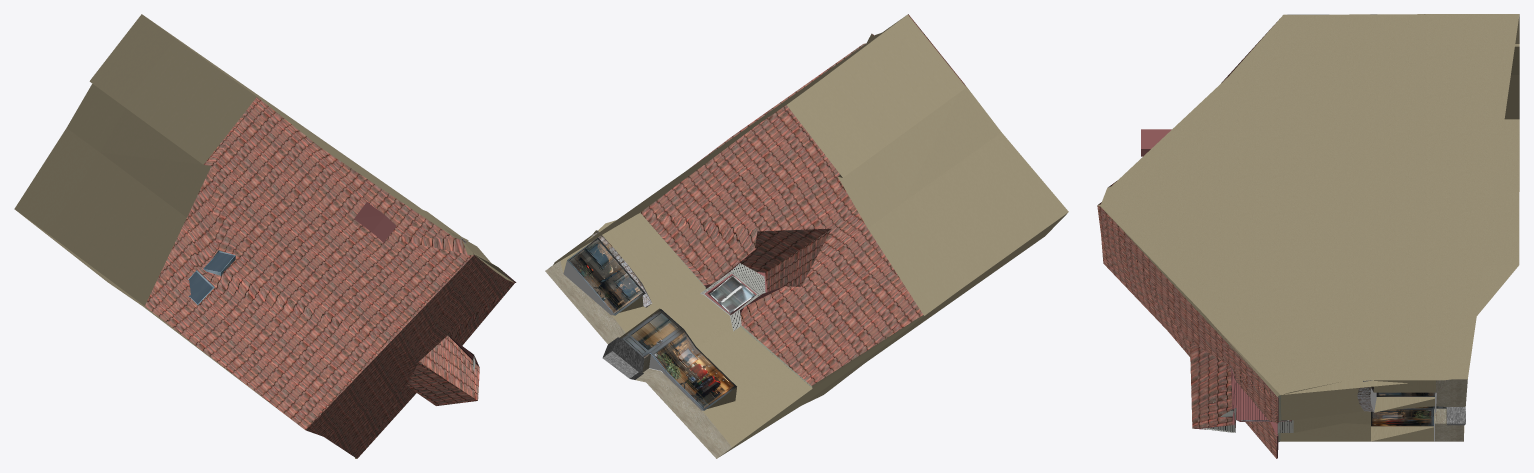
File: Myyrivahe_23-origo.obj
The picture shows the model from 3 angles, left to right: view 1: azimuth 30°, elevation 25°; view 2: azimuth 150°, elevation 25°; view 3: azimuth 270°, elevation 25°; orthographic projection. The views are drawn at different scales.
Parts seen in each view (by area): view 1: Myyrivahe_23; view 2: Myyrivahe_23; view 3: Myyrivahe_23.
Boxes of the visible parts, x1,y1,x2,y2 form: Myyrivahe_23: (14,14,516,458); Myyrivahe_23: (545,14,1068,458); Myyrivahe_23: (1097,14,1519,458).
Bounding box in the file's own units: 14.81 × 14 × 13.55.
